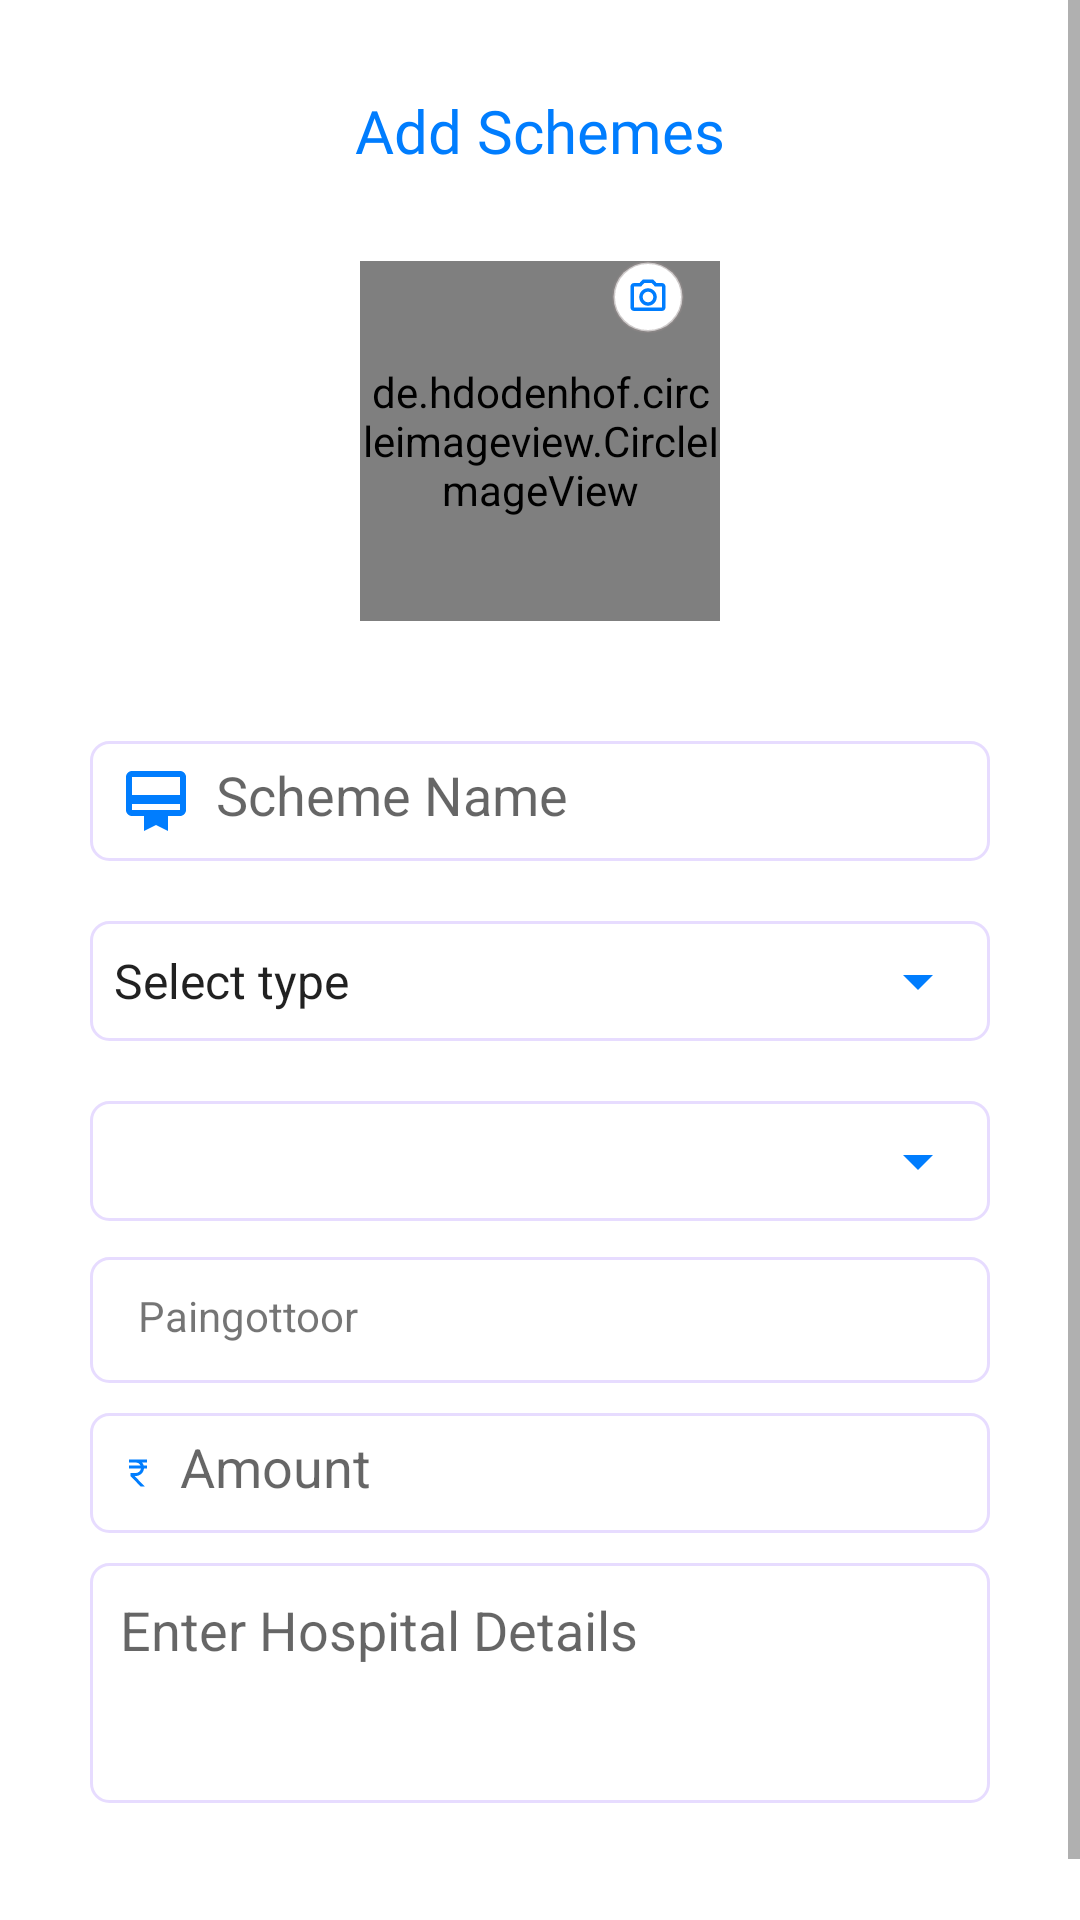

Screen size 1080px x 1920px. Icon name, then its center in pixels as (x=x, y=y):
camera: (x=648, y=297)
